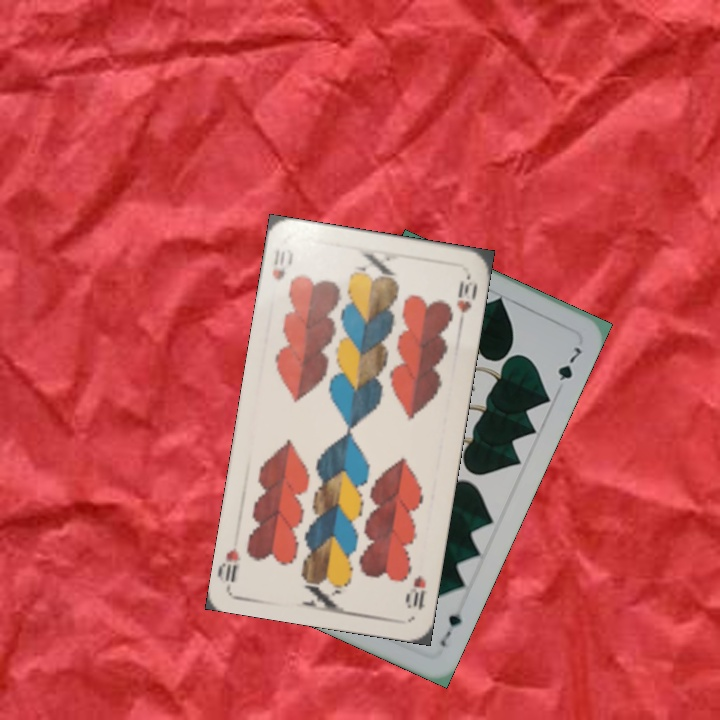G7: (436, 609, 464, 649)
H10: (401, 571, 429, 613), (268, 245, 296, 283)
